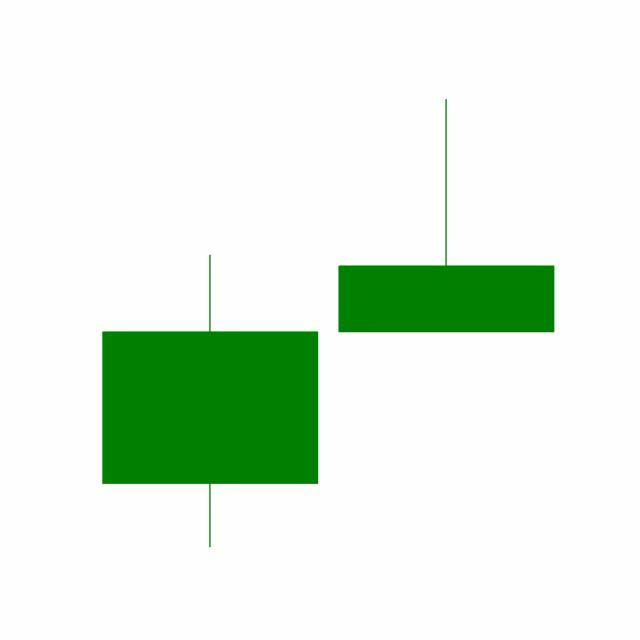Gravestone Doji: (328, 96, 566, 335)
